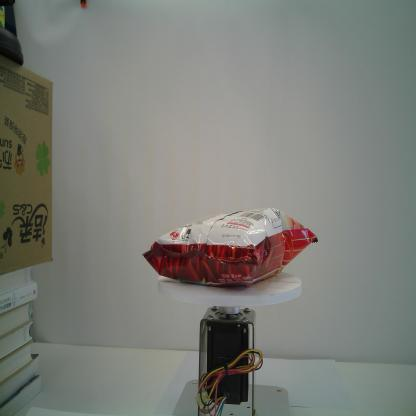Puffed Food: (141, 207, 319, 288)
